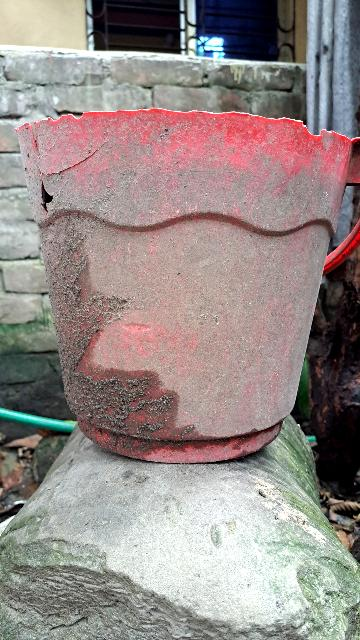hardplastic: (29, 110, 332, 462)
